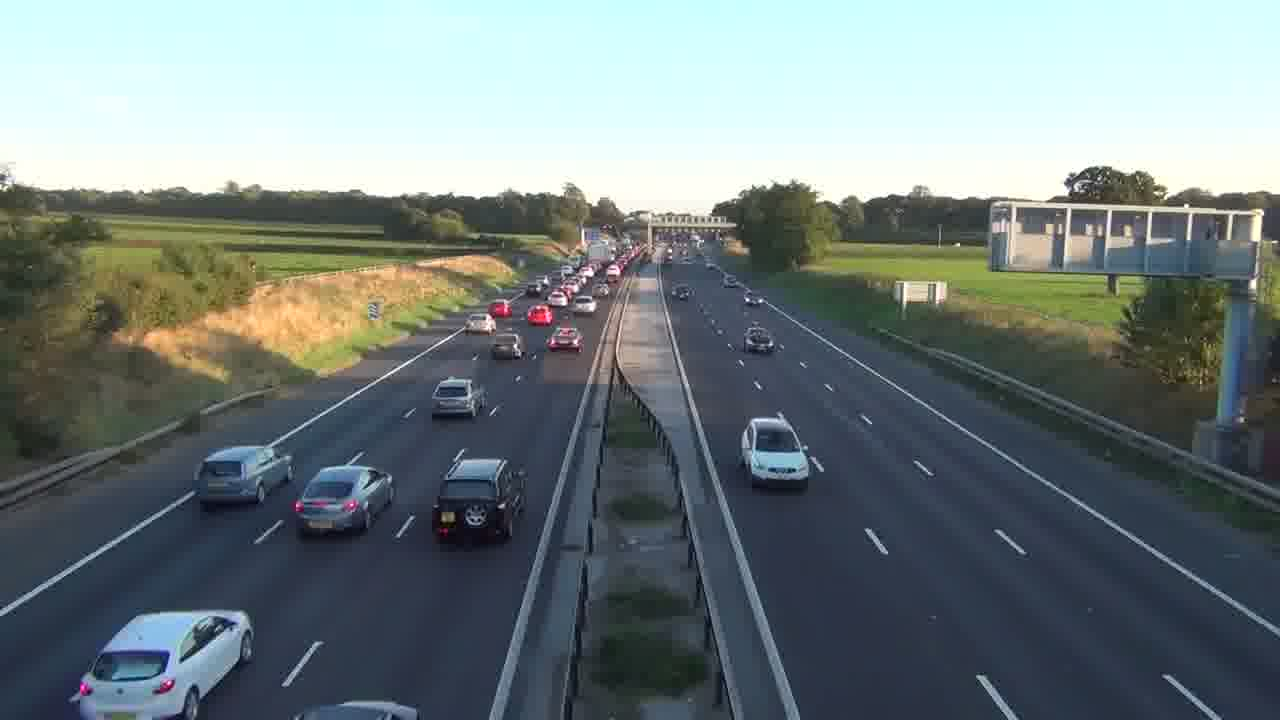car: (68, 608, 255, 719), (292, 464, 395, 537), (739, 415, 822, 491), (431, 376, 486, 419), (490, 331, 526, 360), (672, 283, 692, 299)
truck: (431, 455, 526, 547)
